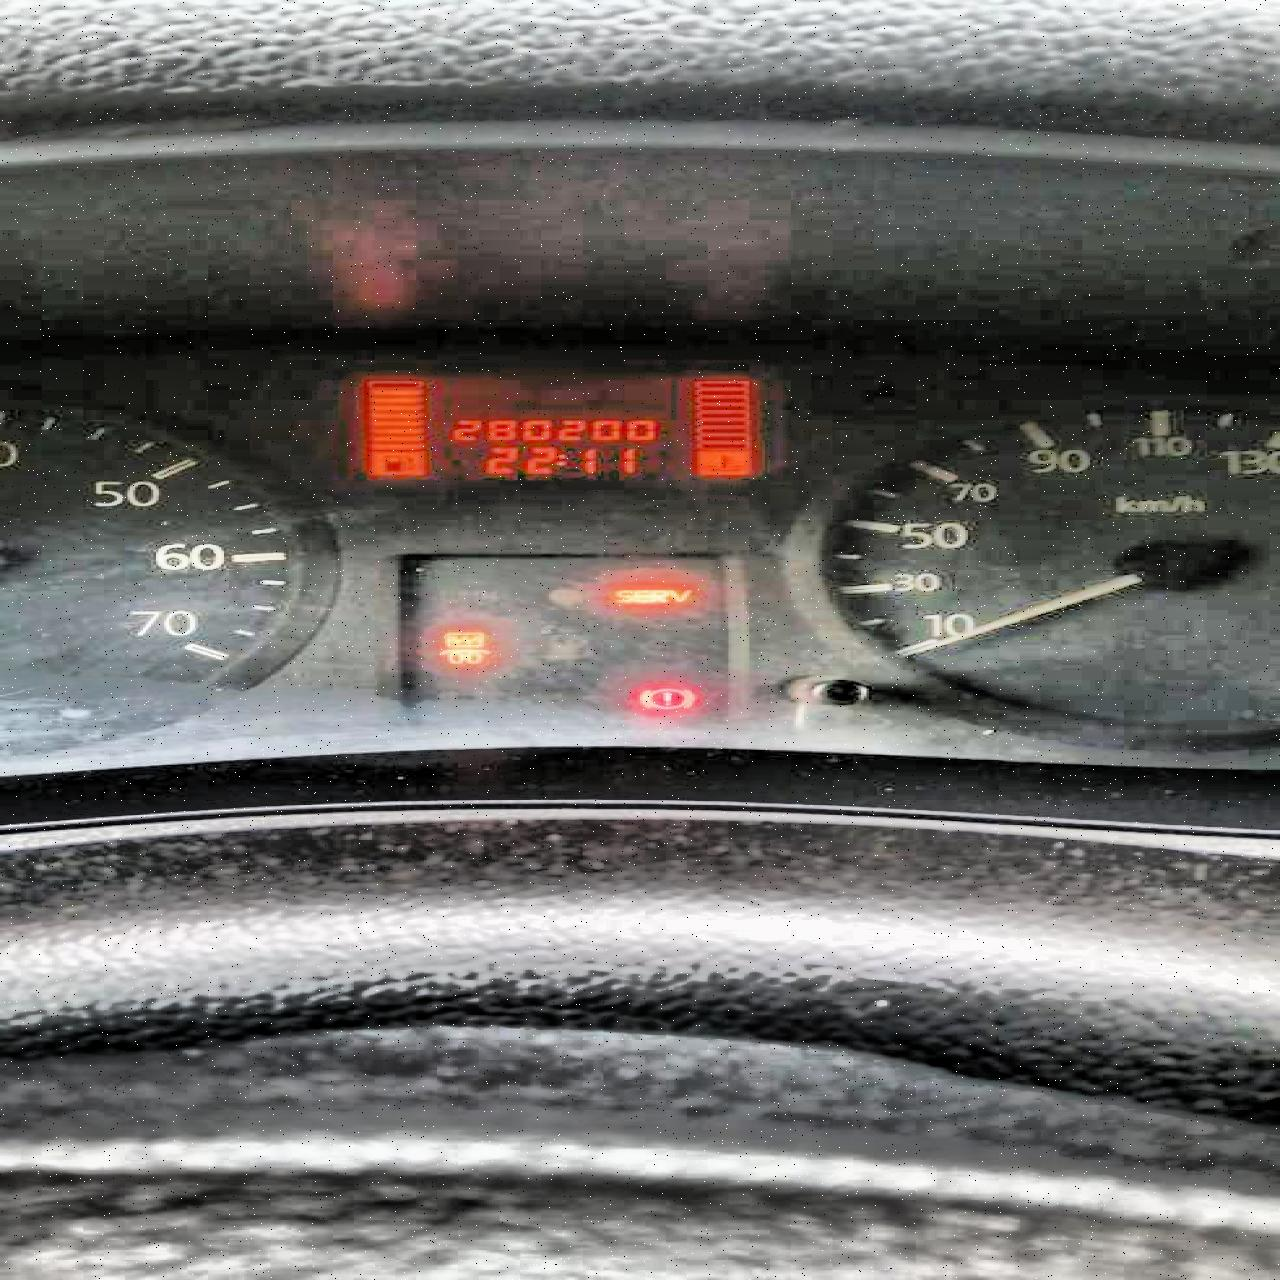0: (625, 417, 655, 441), (518, 417, 549, 441), (591, 417, 619, 441)
1: (617, 447, 638, 474), (580, 448, 601, 472)
2: (484, 447, 518, 472), (526, 445, 554, 474), (452, 417, 478, 441), (557, 417, 583, 441)
8: (484, 418, 515, 440)
X: (557, 452, 567, 468)
odometer: (335, 368, 781, 486)
